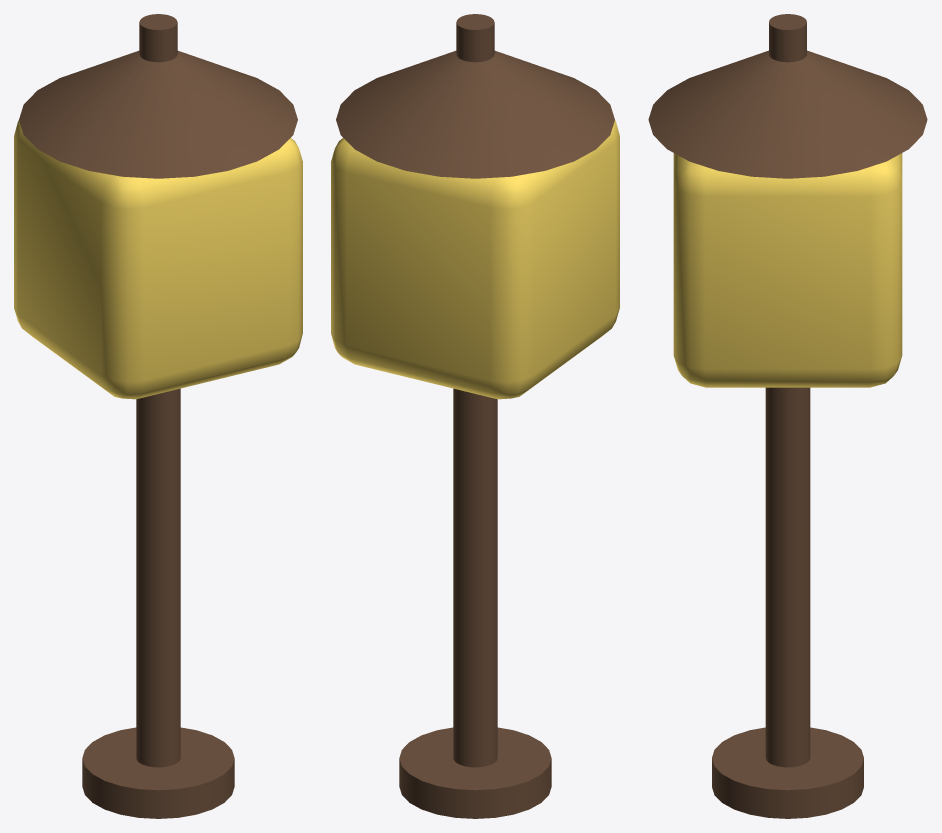
Rendered from lantern.glb.
3 views of the same model, side by side, from view 1: azimuth 30°, elevation 25°; view 2: azimuth 150°, elevation 25°; view 3: azimuth 270°, elevation 25° (orthographic).
Parts seen in each view (by area): view 1: lantern; view 2: lantern; view 3: lantern.
Part boxes in pixels (x1,y1,x2,y2): lantern: (14, 14, 302, 818); lantern: (331, 14, 619, 818); lantern: (648, 14, 927, 818).
Bounding box in the file's own units: 0.44 × 1.33 × 0.44.
